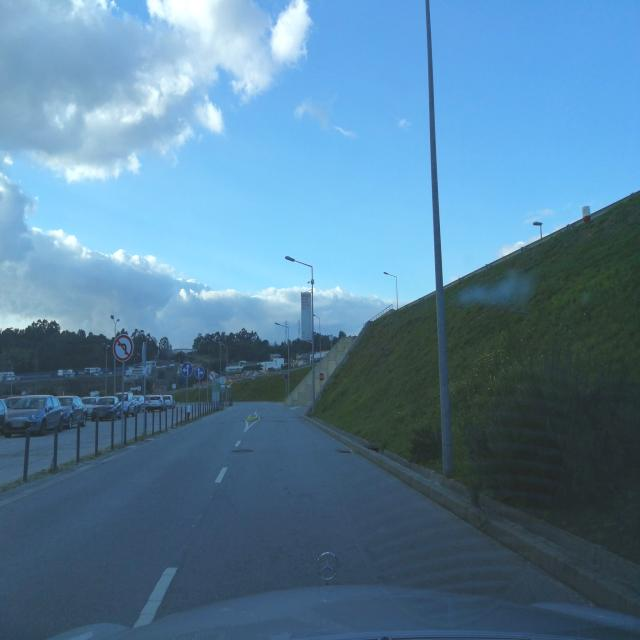car: (2, 393, 64, 438), (56, 395, 86, 429), (93, 394, 124, 420), (115, 391, 138, 417), (81, 396, 100, 420), (146, 393, 164, 409), (133, 394, 147, 411), (162, 393, 176, 407)
